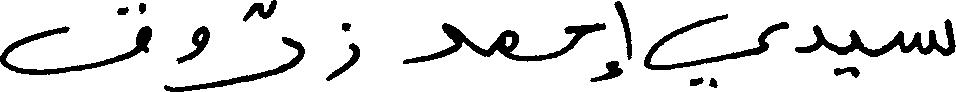X: (0, 0, 151, 79), (645, 9, 787, 91), (239, 0, 304, 87), (404, 18, 461, 68), (899, 14, 955, 60), (566, 18, 603, 86), (178, 21, 208, 91), (329, 18, 359, 85), (615, 0, 630, 81), (798, 20, 821, 57), (498, 25, 517, 65), (849, 25, 861, 82)
